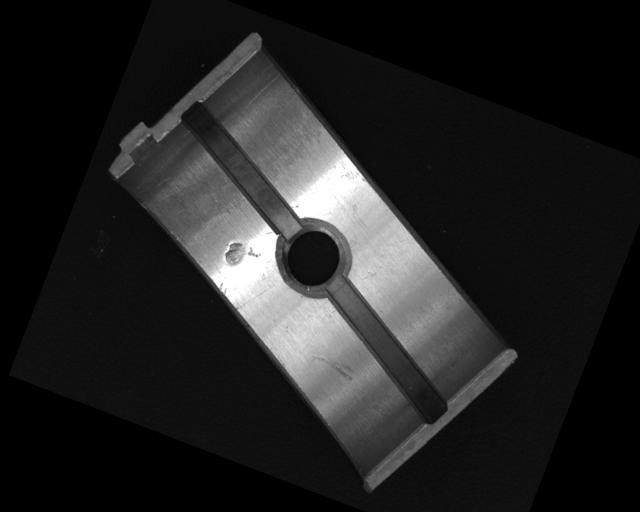bruise: (220, 238, 263, 275)
gap: (297, 273, 473, 426), (154, 100, 328, 241)
hole: (269, 212, 356, 304)
nick: (305, 348, 358, 383)
